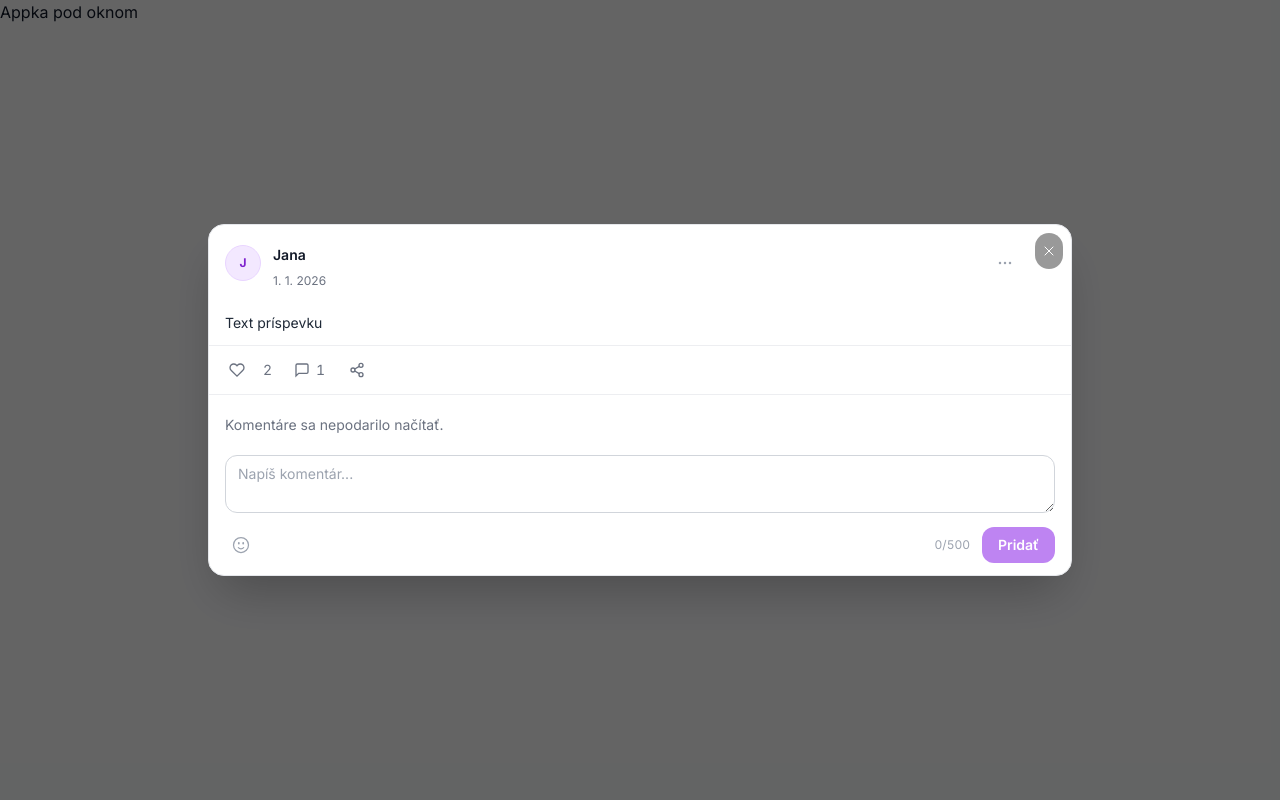
Scenario: „..." menu vnútri okna › opens above the window, not behind it
Check: the element with test id "feed-post-card" is shown, box [209,225,1071,394]
Click the button with test id "feed-post-menu-trigger" at x=1005, y=263, box [987,245,1023,281]
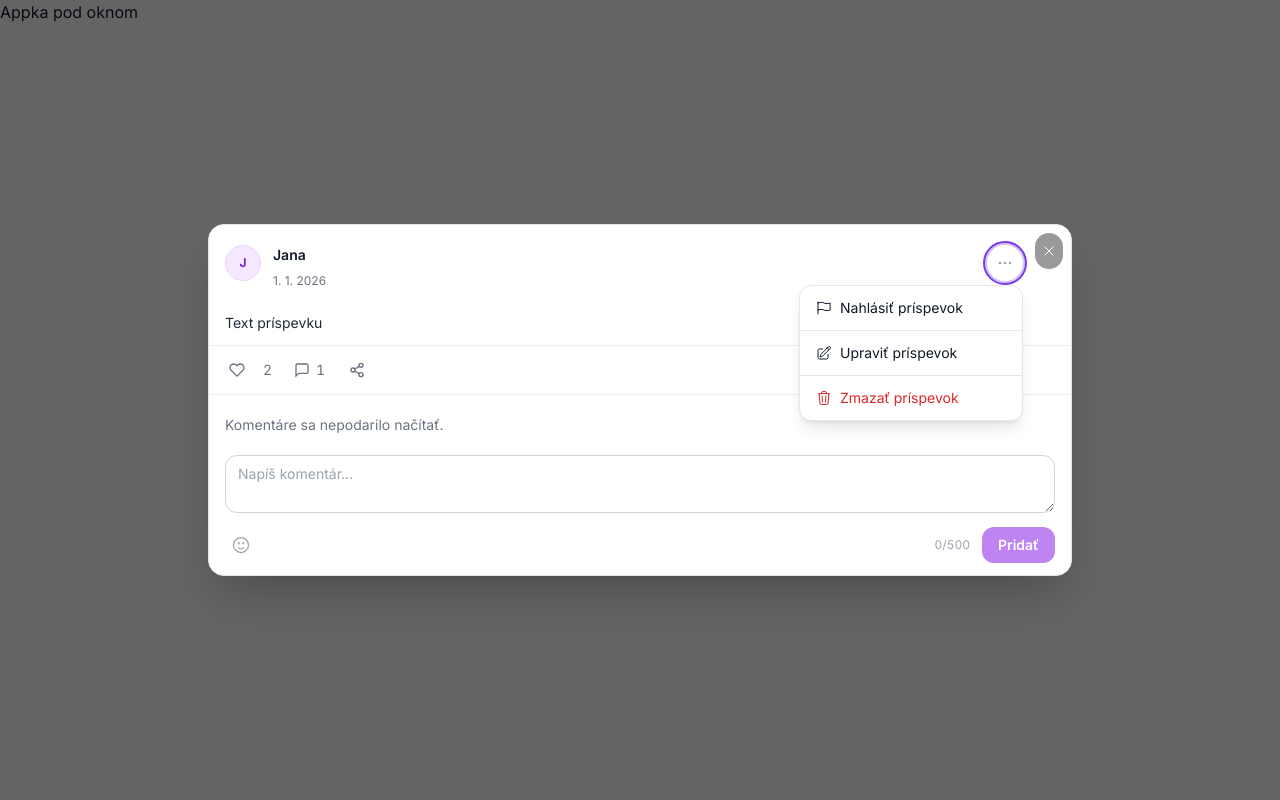
Check: the menu with test id "feed-post-menu" is shown, box [799,285,1023,421]
